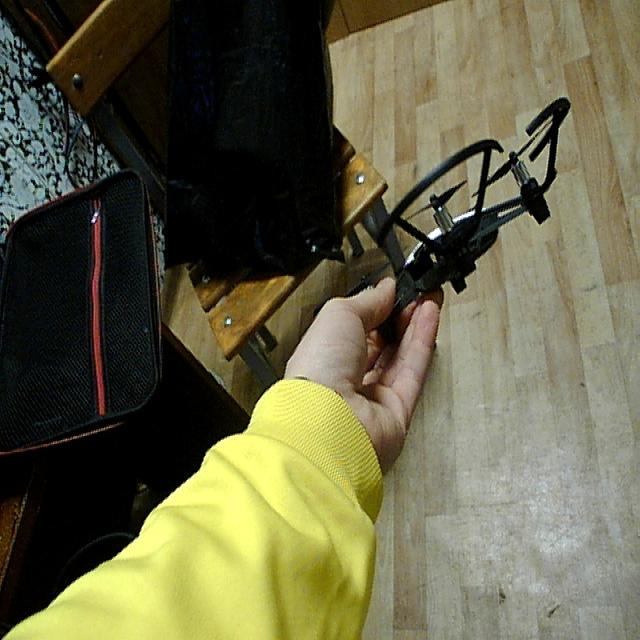drone: (337, 93, 581, 323)
